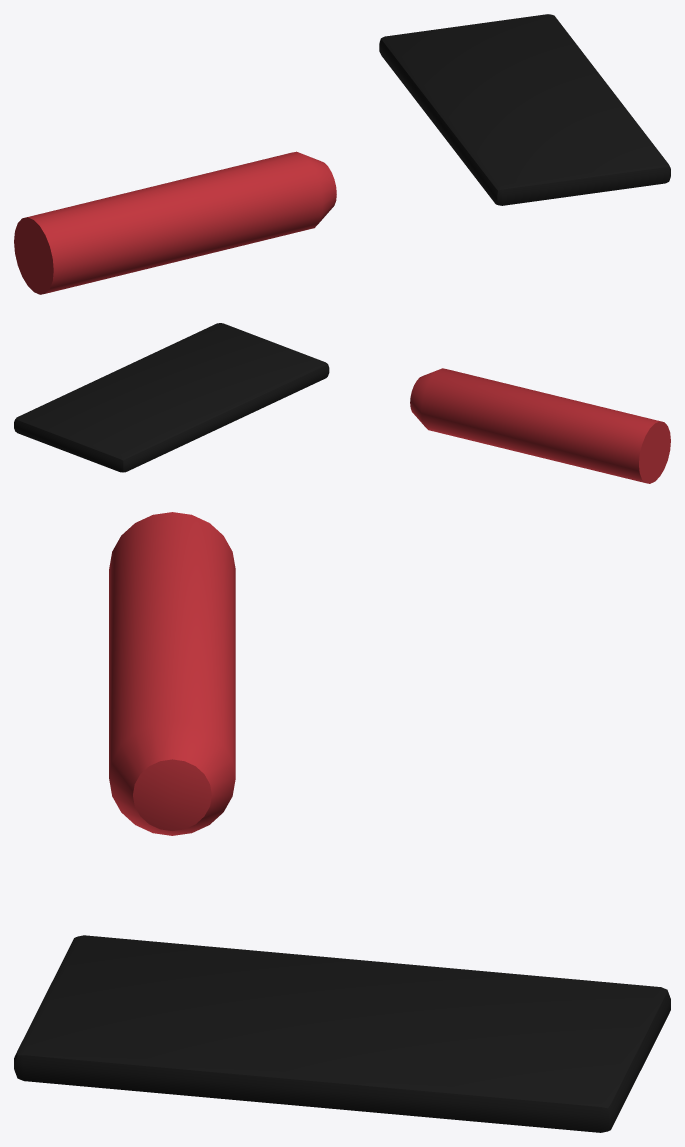
Rendered from recwgptFaT3RtKH6T.glb.
The picture shows the model from 3 angles, top to bottom: view 1: azimuth 30°, elevation 25°; view 2: azimuth 150°, elevation 25°; view 3: azimuth 270°, elevation 25°; orthographic projection. The views are drawn at different scales.
Visible parts, largest first — view 1: Objets_Chevet_2_Corps; view 2: Objets_Chevet_2_Corps; view 3: Objets_Chevet_2_Corps.
Part boxes in pixels (bbox=[...]): Objets_Chevet_2_Corps: bbox=[14, 14, 670, 294]; Objets_Chevet_2_Corps: bbox=[14, 323, 670, 483]; Objets_Chevet_2_Corps: bbox=[14, 512, 670, 1132].
Bounding box in the file's own units: 0.3052 × 0.032 × 0.166.
